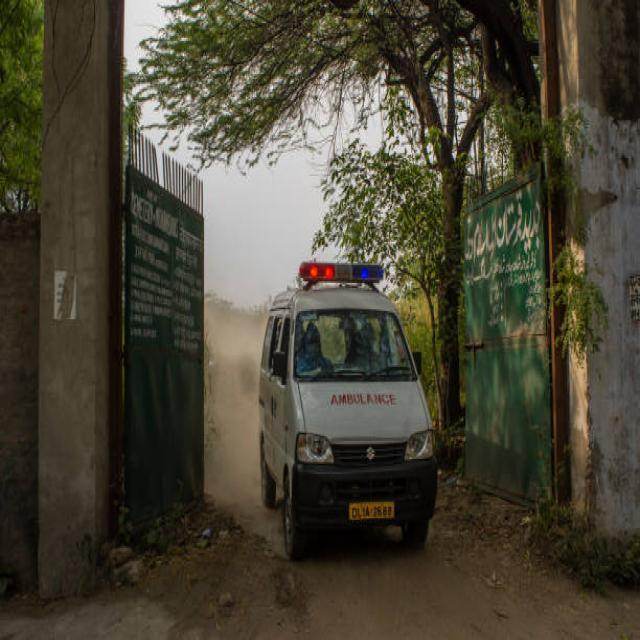emergency: (262, 258, 442, 556)
